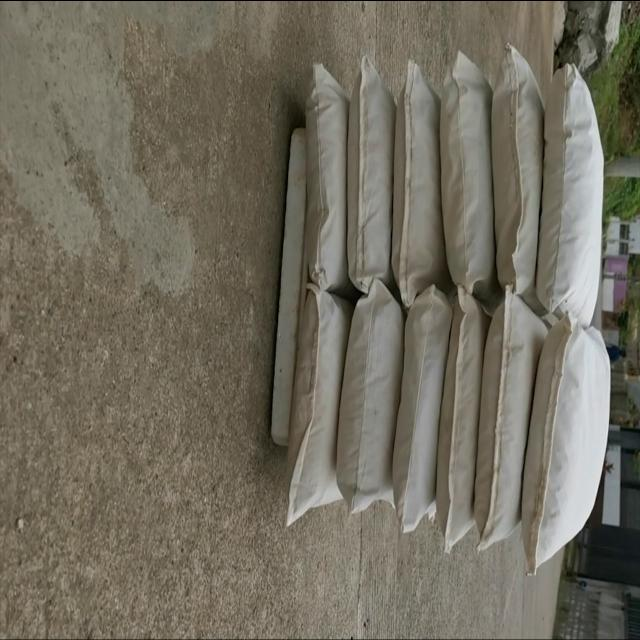Sack: (519, 290, 608, 583), (464, 282, 550, 553), (265, 283, 351, 533), (383, 271, 462, 542), (425, 274, 494, 562), (542, 68, 614, 319), (331, 277, 403, 527), (485, 48, 553, 298), (433, 54, 501, 294), (288, 61, 357, 293), (343, 55, 404, 303), (388, 62, 446, 301)
